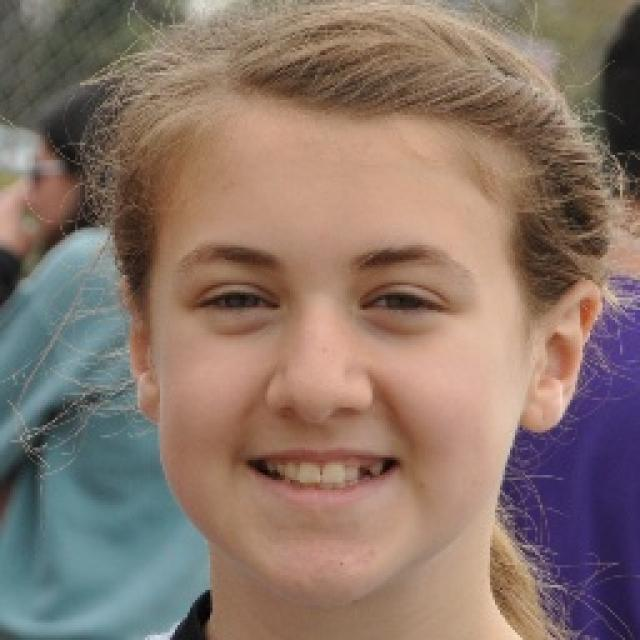earlobe: (522, 388, 564, 434), (134, 376, 161, 425)
eye: (196, 288, 280, 314), (361, 292, 441, 316)
nose: (267, 400, 372, 444)
wholeear: (522, 279, 602, 434), (120, 271, 162, 424)
